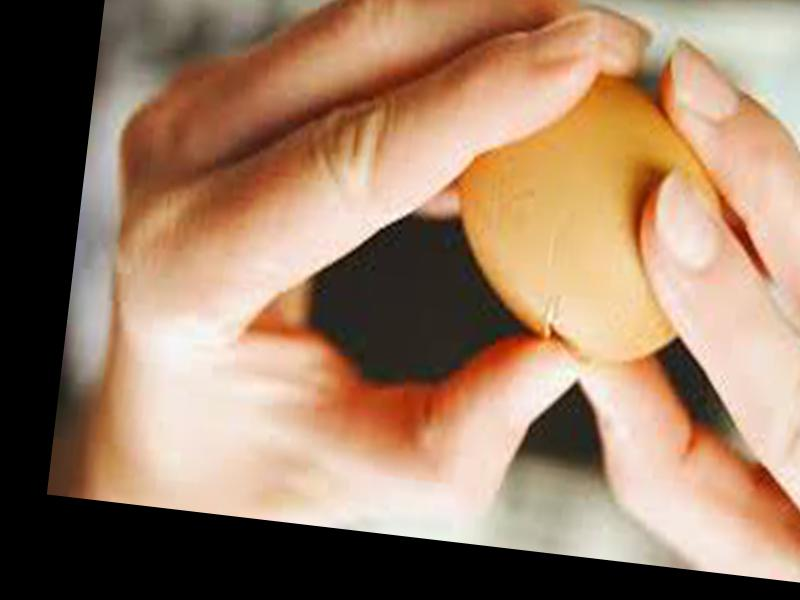Eggs: (441, 55, 738, 376)
